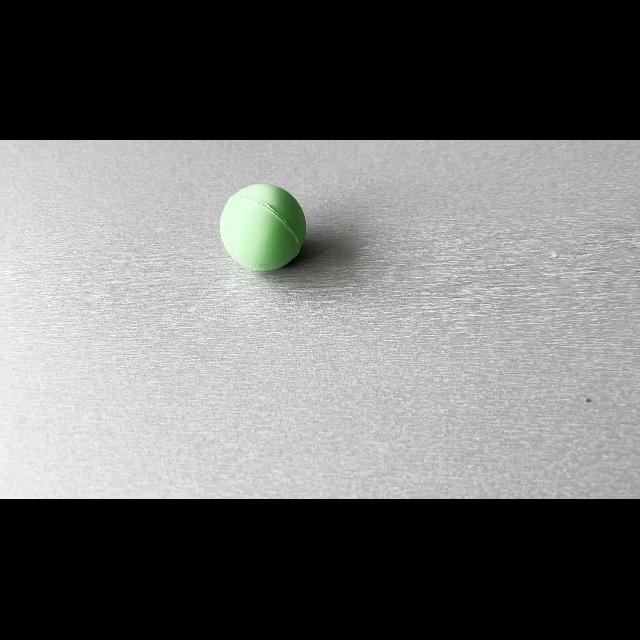objects: (216, 181, 314, 275)
